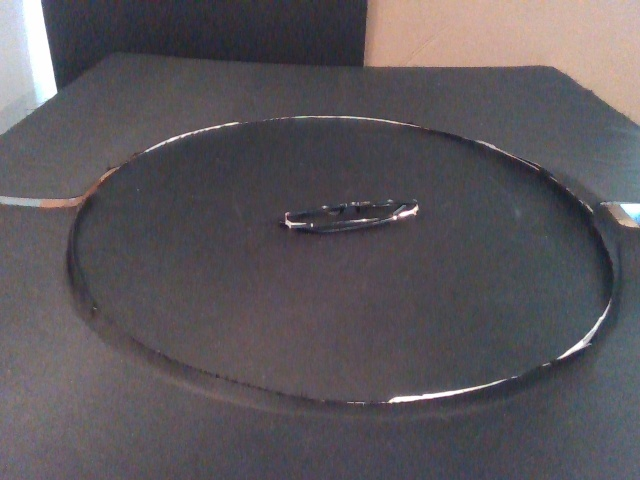glasses: (277, 196, 420, 236)
